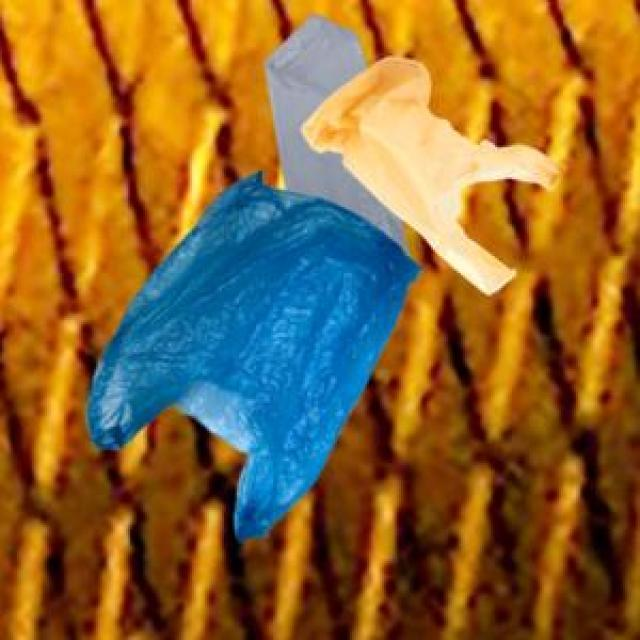Vinyl: (88, 16, 556, 538)
